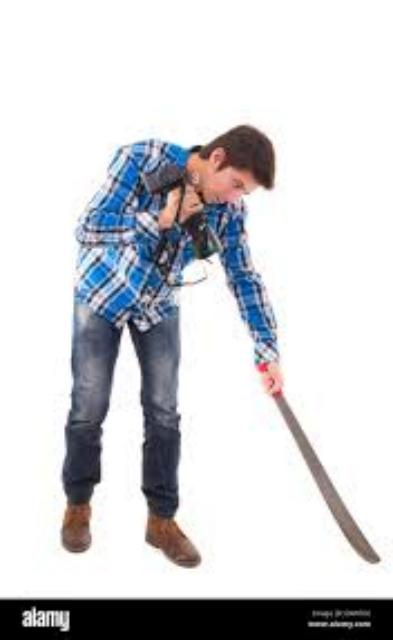long knife: (236, 348, 389, 572)
